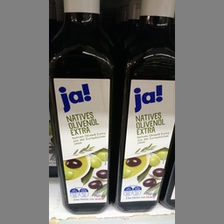oil: (49, 1, 114, 214), (114, 1, 175, 213)
